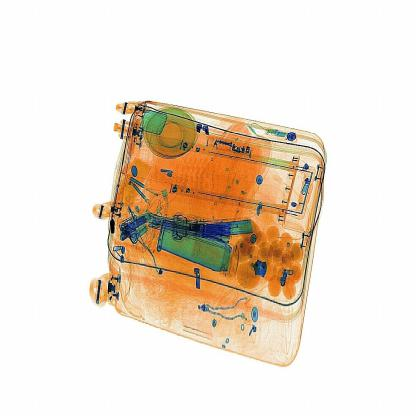pliers: (198, 217, 256, 237)
